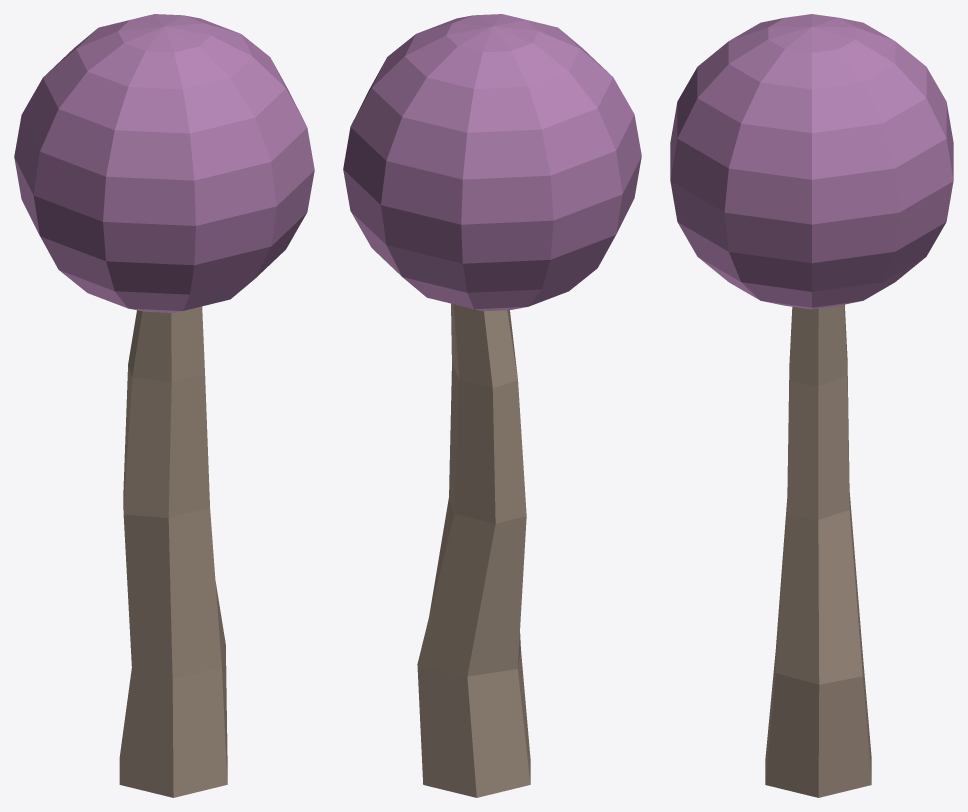
File: tree2.fbx
The picture shows the model from 3 angles, left to right: view 1: azimuth 30°, elevation 25°; view 2: azimuth 150°, elevation 25°; view 3: azimuth 270°, elevation 25°; orthographic projection.
Visible parts, largest first — view 1: pSphere1, pCylinder2; view 2: pSphere1, pCylinder2; view 3: pSphere1, pCylinder2.
Boxes of the visible parts, box(x1,y1,x2,y2) form: pSphere1: box(14, 14, 314, 312); pCylinder2: box(119, 306, 227, 797); pSphere1: box(343, 14, 641, 311); pCylinder2: box(417, 303, 530, 797); pSphere1: box(670, 14, 953, 309); pCylinder2: box(765, 304, 871, 797).
Size of the model in its own units: 4.85 by 13.28 by 4.61.
